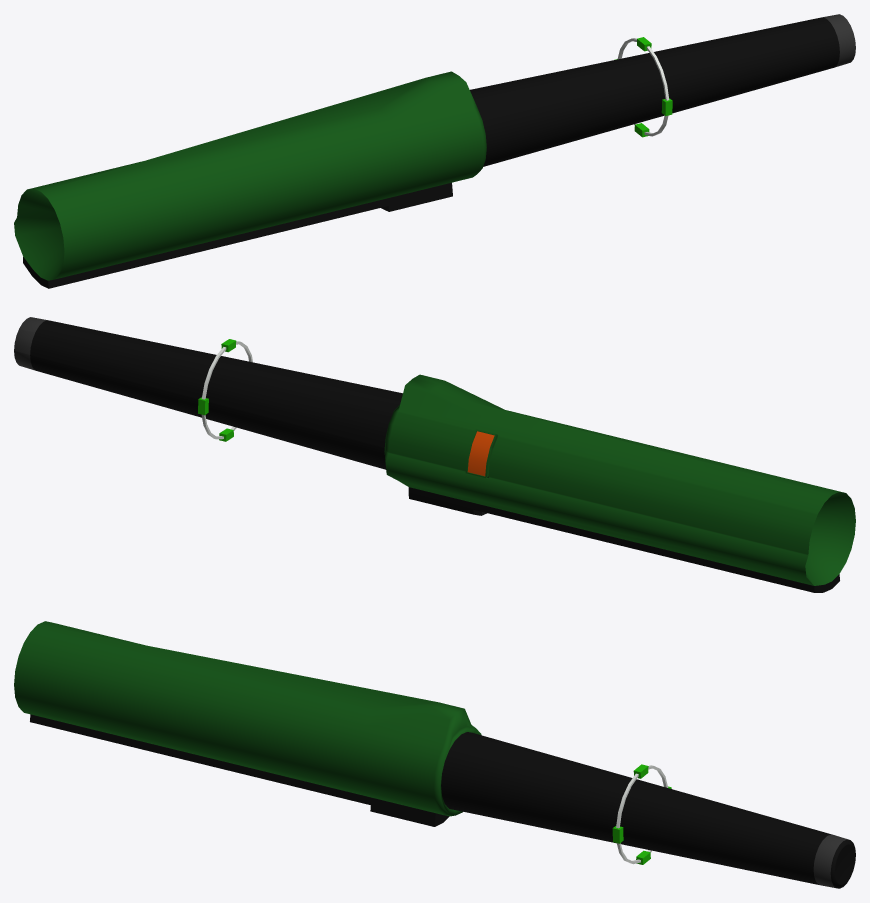
File: Weapon.fbx
3 views of the same model, one above another, from view 1: azimuth 30°, elevation 25°; view 2: azimuth 150°, elevation 25°; view 3: azimuth 330°, elevation 25° (orthographic).
Parts seen in each view (by area): view 1: pCylinder3, pPipe3; view 2: pCylinder3, pPipe3; view 3: pCylinder3, pPipe3.
Part boxes in pixels (x1=…): pCylinder3: x1=14, y1=14, x2=855, y2=288; pPipe3: x1=614, y1=37, x2=672, y2=137; pCylinder3: x1=14, y1=317, x2=855, y2=592; pPipe3: x1=198, y1=339, x2=252, y2=441; pCylinder3: x1=14, y1=621, x2=855, y2=888; pPipe3: x1=612, y1=764, x2=671, y2=864.
Size of the model in its own units: 29.96 by 4.04 by 3.42.
